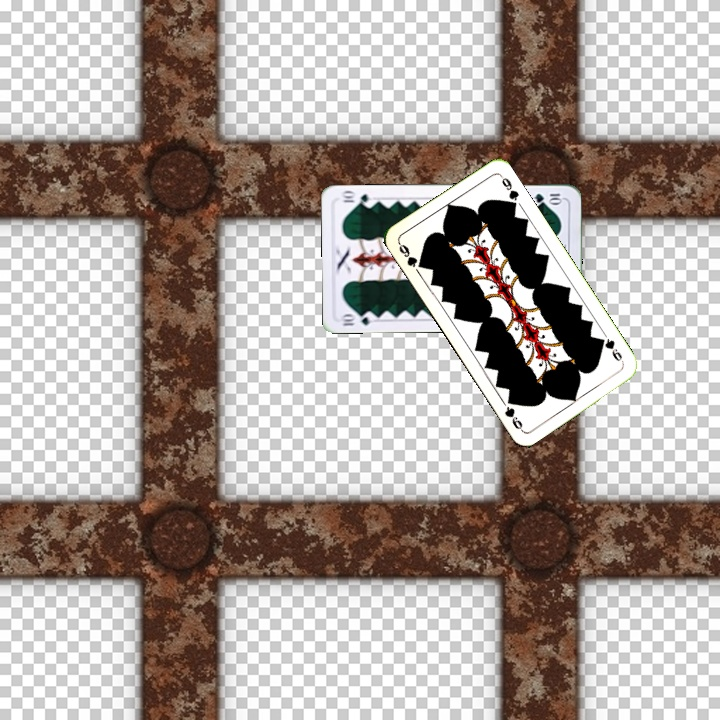G10: (337, 309, 378, 328), (530, 189, 565, 205)
G9: (394, 239, 427, 271), (595, 334, 626, 366)
